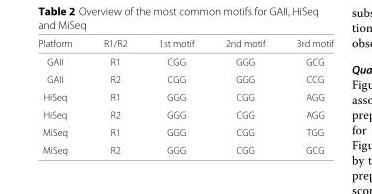table: (37, 37, 333, 155)
table column: (209, 37, 280, 155), (142, 37, 209, 155), (87, 37, 142, 155), (280, 37, 333, 155), (37, 37, 87, 155)
table column header: (37, 37, 333, 52)
table row: (37, 52, 333, 70), (37, 87, 333, 105), (37, 105, 333, 123), (37, 70, 333, 87), (37, 123, 333, 140), (37, 37, 333, 52), (37, 140, 333, 155)
